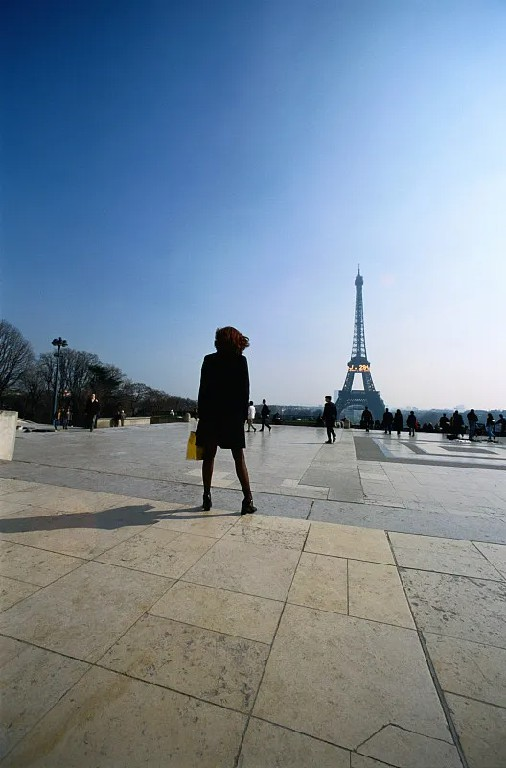Eiffel: (335, 264, 387, 428)
